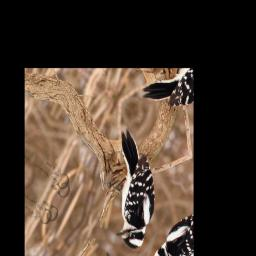Woodpecker: (82, 124, 181, 254)
